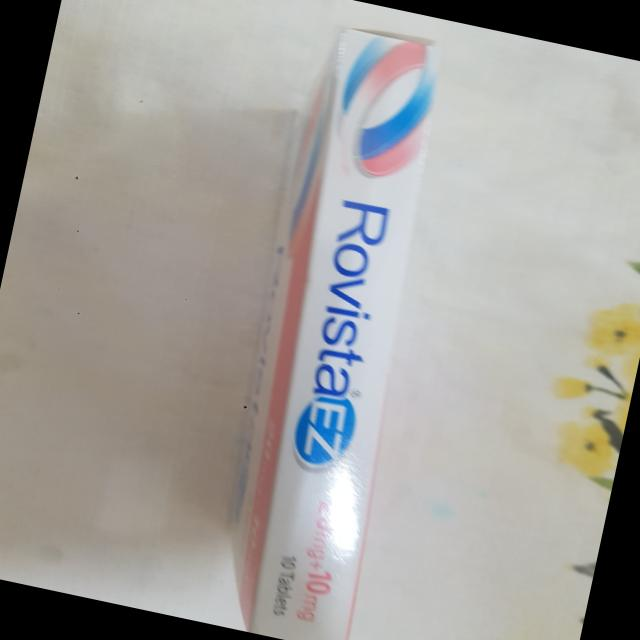electronic: (206, 18, 471, 640)
